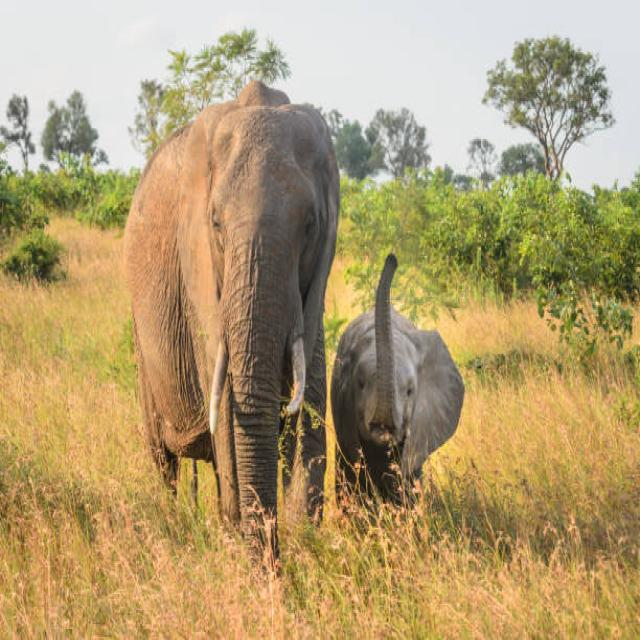Elephant: (112, 61, 349, 557), (333, 268, 471, 538)
